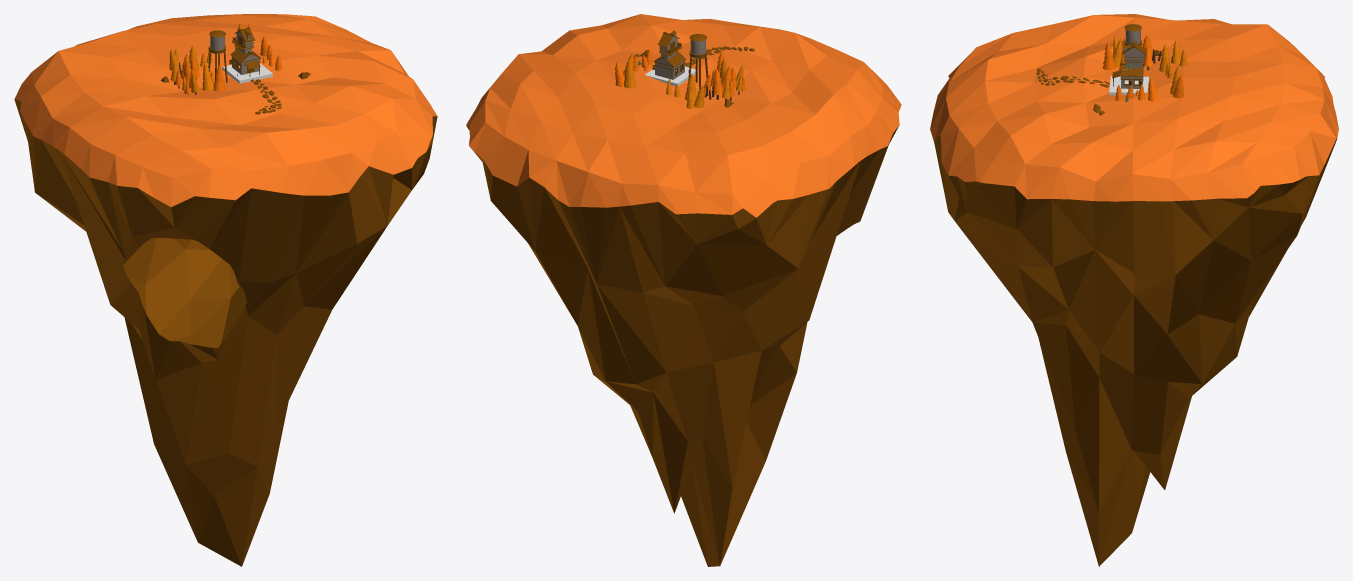
File: island.glb
3 views of the same model, side by side, from view 1: azimuth 30°, elevation 25°; view 2: azimuth 150°, elevation 25°; view 3: azimuth 270°, elevation 25° (orthographic). The views are drawn at different scales.
Parts seen in each view (by area): view 1: Island, trees.001, Cabin; view 2: Island, trees.001, trees.005, Cabin; view 3: Island, trees.005, Cabin, cabin 2nd floor.
Boxes of the visible parts, x1,y1,x2,y2 form: Island: [14, 14, 437, 566]; trees.001: [170, 54, 199, 94]; Cabin: [229, 48, 261, 76]; Island: [466, 14, 901, 566]; trees.001: [704, 65, 745, 102]; trees.005: [615, 59, 714, 101]; Cabin: [652, 51, 686, 79]; Island: [930, 14, 1338, 566]; trees.005: [1152, 44, 1184, 98]; Cabin: [1112, 62, 1144, 88]; cabin 2nd floor: [1122, 41, 1146, 68].
Bounding box in the file's own units: 36.48 × 53.84 × 37.03.
